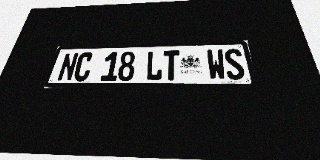1: (100, 52, 121, 81)
8: (117, 51, 136, 81)
C: (72, 52, 94, 81)
L: (145, 51, 163, 81)
N: (56, 53, 79, 81)
S: (223, 49, 246, 80)
T: (163, 50, 180, 80)
W: (206, 49, 227, 80)
